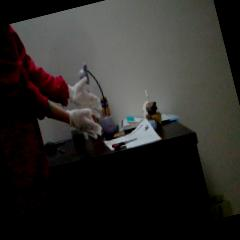gloved: (66, 74, 104, 116), (68, 103, 104, 142)
